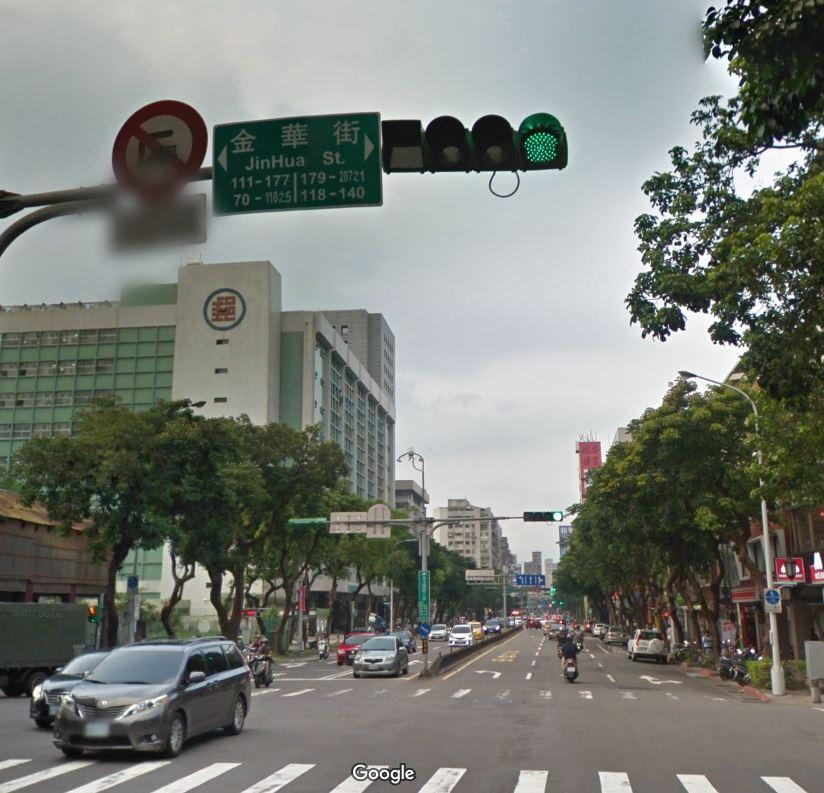green_traffic_light: (379, 114, 568, 179)
